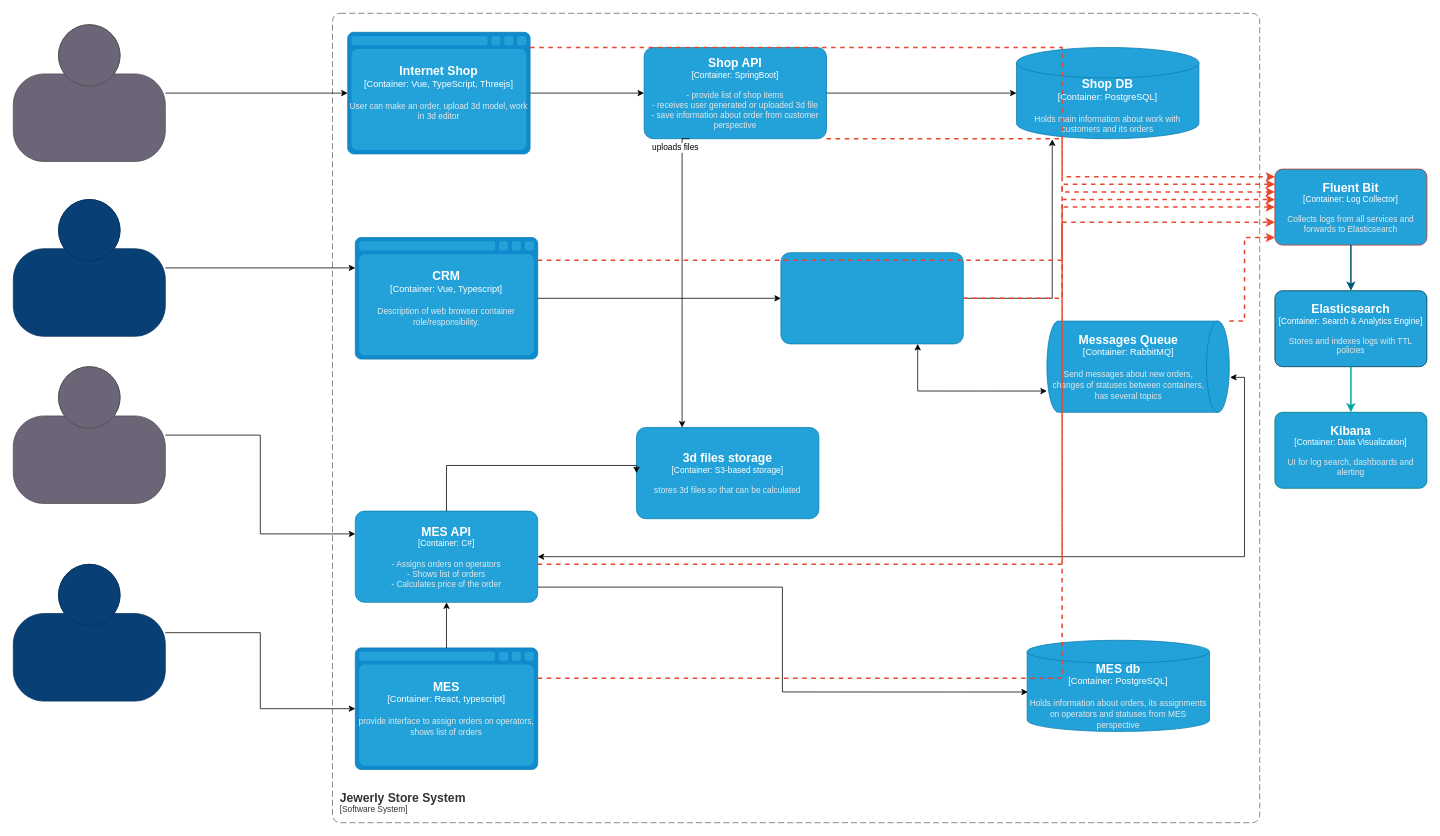
Image size: 1440x836. Some labels were removed from this diagram. The shapes that lost their labels are listed below. From the top down, each one's centre as x and y in pixels, then its label:
At [89,93]: "Customer [Person] Description of external person.".
At [89,267]: "Seller [Person] Operates with order, confirms manufacturing for the user".
At [871,298]: "CRM API [Container: SpringBoot] Description of container role/responsibility.".
At [89,435]: "API user [Person] Description of external person.".
At [89,632]: "Operator [Person] Takes order in work, manufactures jewerly".
